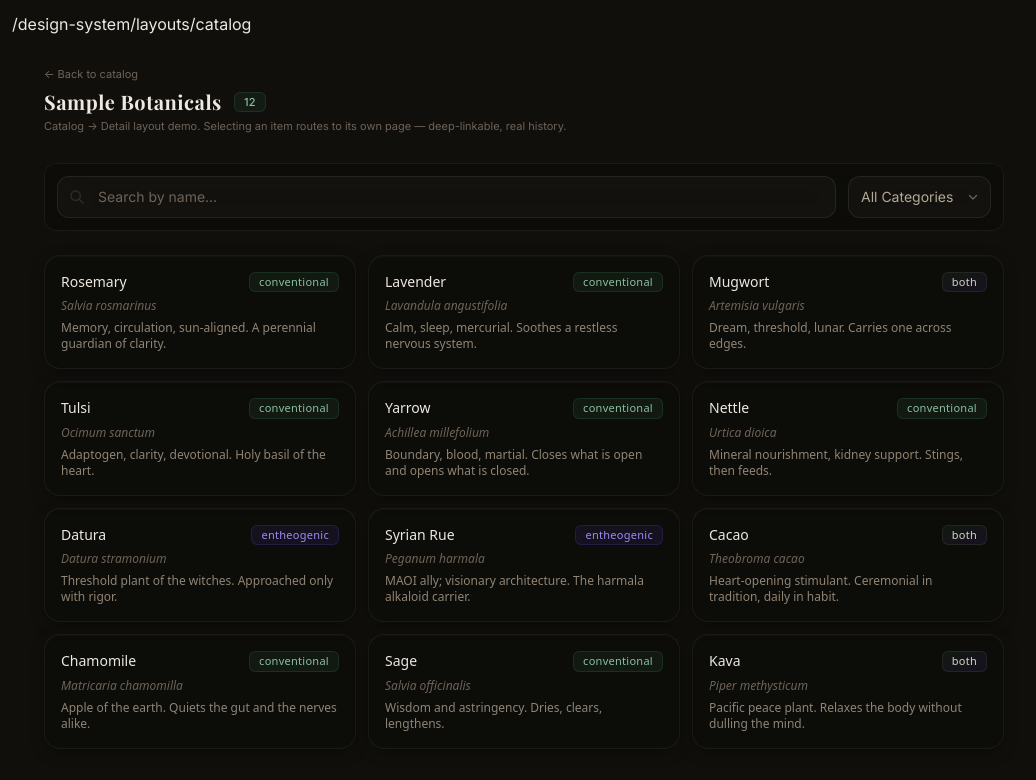
CatalogDemo — composes the canonical Catalog layout with FilterBar › selecting a category filters and updates the URL
Select "Entheogenic" in the dropdown named "category" at (920, 196), box [848, 176, 991, 218]
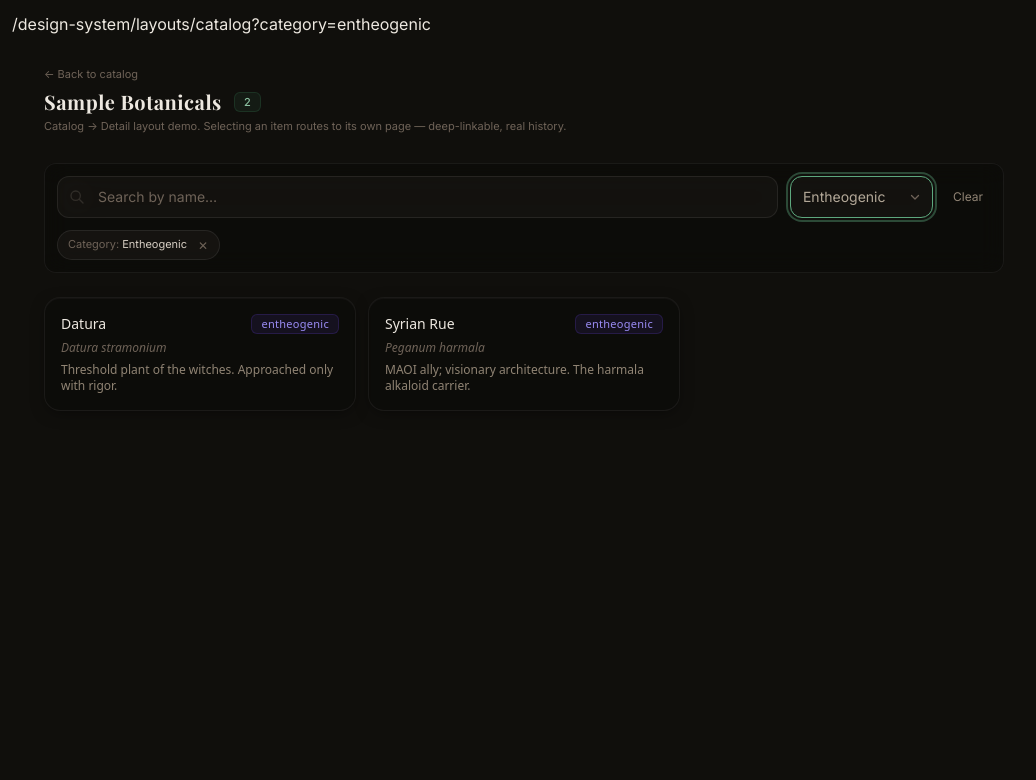
Expected: the text "Datura" is shown, [61, 314, 106, 334]
Expected: the text with test id "location-probe" shows "category=entheogenic", [12, 14, 431, 34]
Expected: the link "Lavender" is gone
